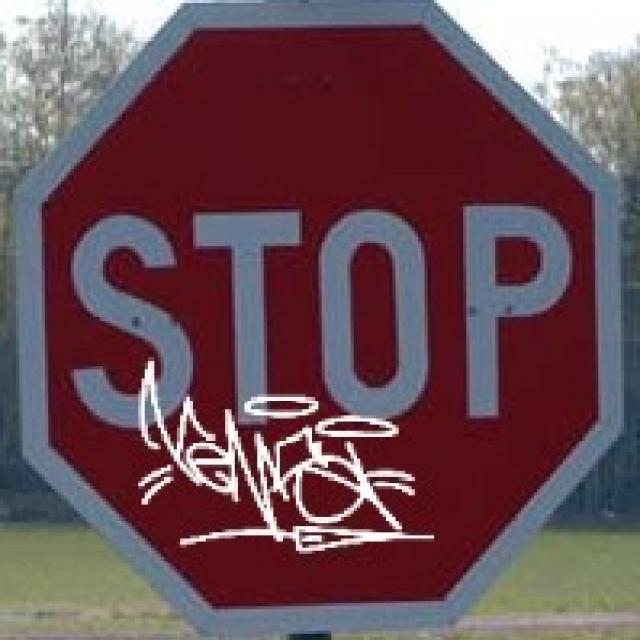Stop-Sign: (59, 139, 578, 488)
